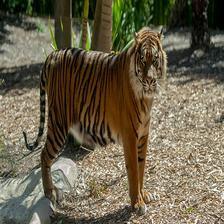tiger: (42, 27, 166, 210)
